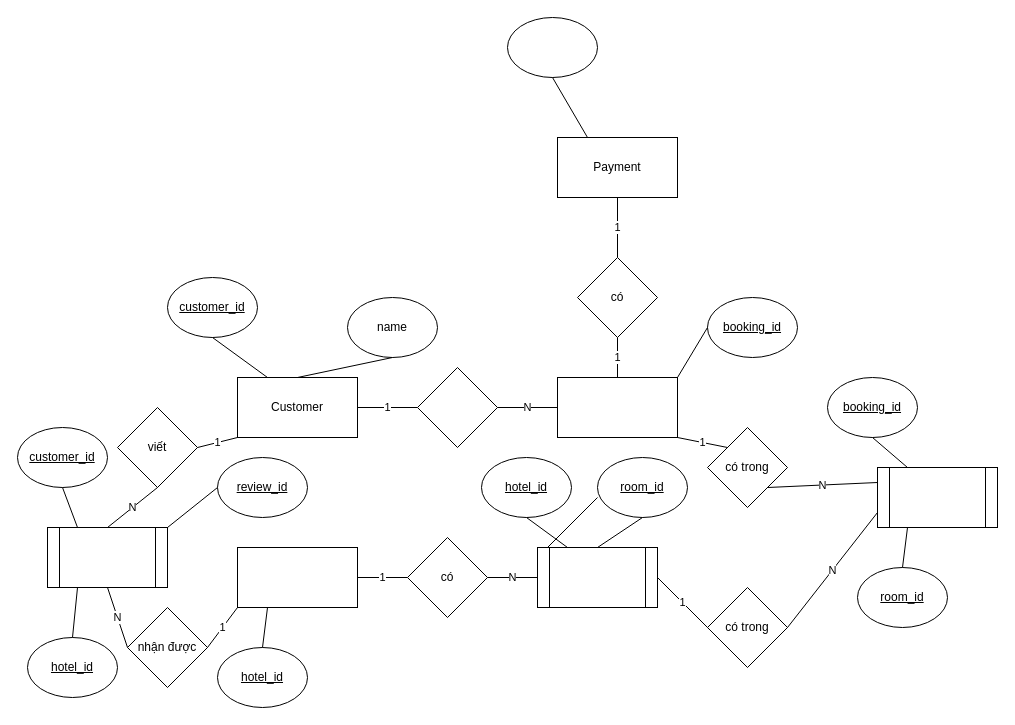
This 1015x725 diagram has some shape labels left out. The centre of each missing label's shape, as x and y in pixels:
Booking: the point at 617,407
BookingDetail: the point at 937,497
Hotel: the point at 297,577
payment_id: the point at 552,47
Review: the point at 107,557
Room: the point at 597,577
đặt: the point at 457,407
